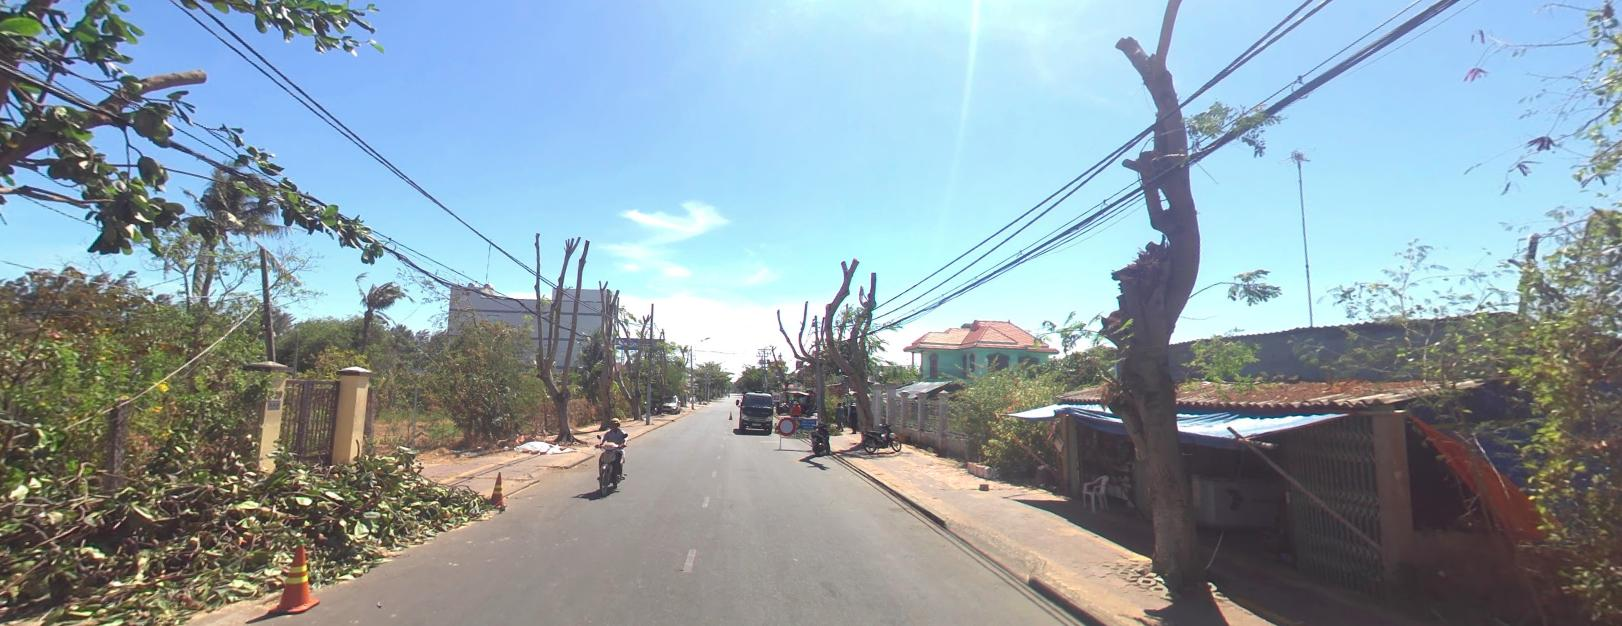Cam con lai: (777, 415, 796, 434), (778, 416, 795, 434), (778, 417, 794, 434)
